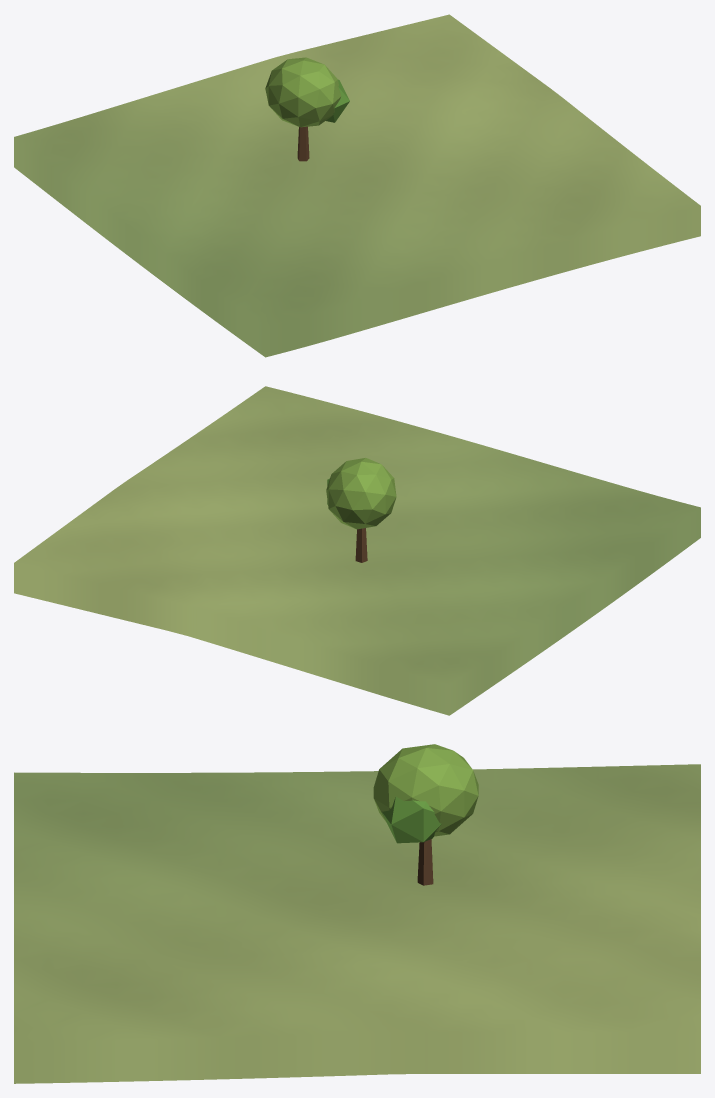
3 views of the same model, one above another, from view 1: azimuth 30°, elevation 25°; view 2: azimuth 150°, elevation 25°; view 3: azimuth 270°, elevation 25° (orthographic). The views are drawn at different scales.
Visible parts, largest first — view 1: terrain, scenery; view 2: terrain, scenery; view 3: terrain, scenery.
Boxes of the visible parts, x1,y1,x2,y2 form: terrain: (14, 14, 700, 357); scenery: (265, 57, 349, 161); terrain: (14, 386, 700, 715); scenery: (326, 458, 396, 562); terrain: (14, 764, 700, 1083); scenery: (373, 744, 478, 885).
Size of the model in its own units: 30 by 9.27 by 30.
